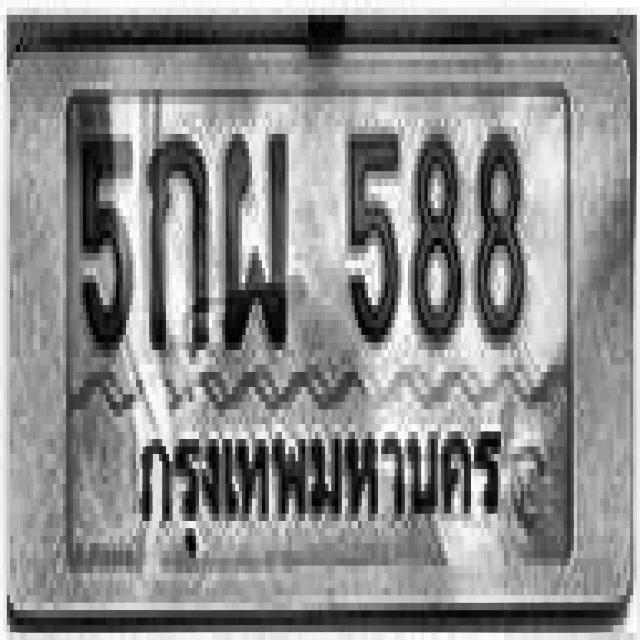license-plate: (8, 49, 626, 601)
